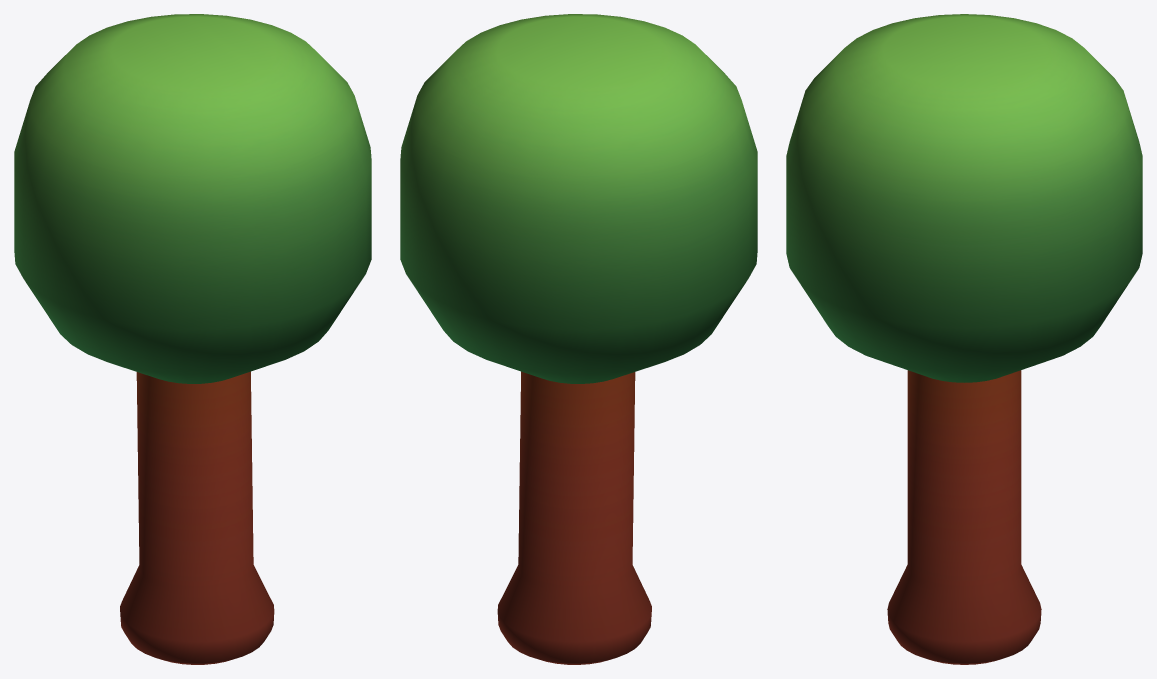
The model's file is Tree.fbx.
3 renders of one model, left to right at view 1: azimuth 30°, elevation 25°; view 2: azimuth 150°, elevation 25°; view 3: azimuth 270°, elevation 25°, orthographic.
Parts seen in each view (by area): view 1: Tree; view 2: Tree; view 3: Tree.
Boxes of the visible parts, <box> form: Tree: <box>14,14,371,664</box>; Tree: <box>400,14,757,664</box>; Tree: <box>786,14,1142,664</box>.
Bounding box in the file's own units: 267 × 485 × 267.
